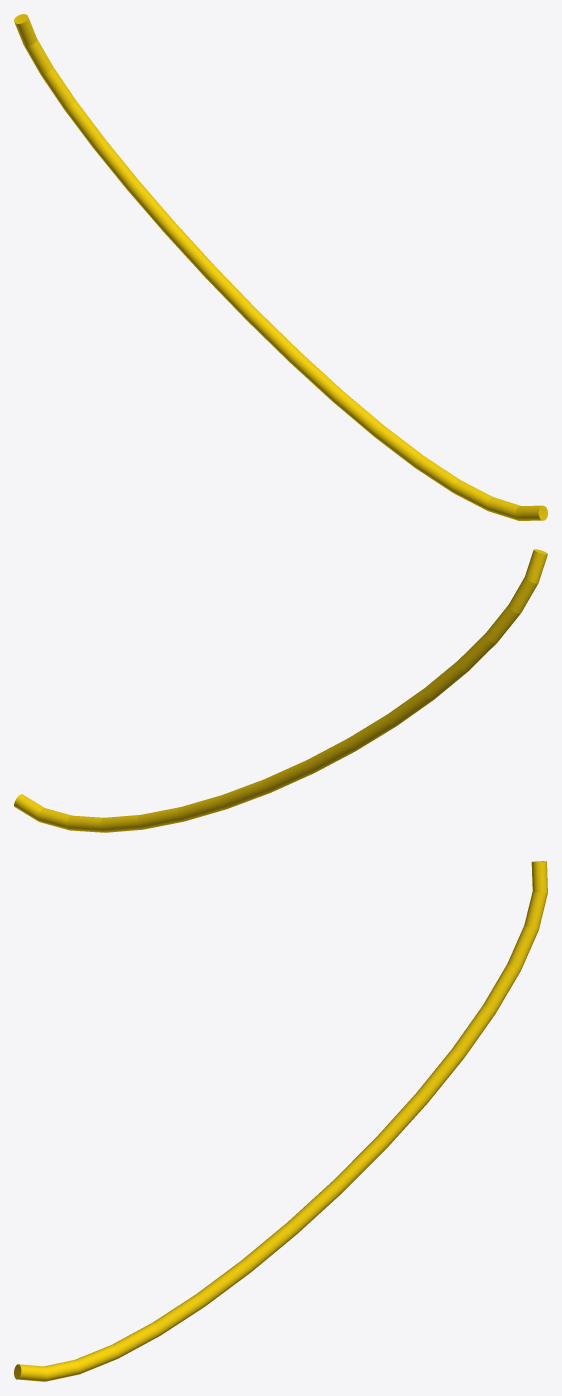
The model's file is Event_420107950_track_35.fbx.
3 renders of one model, top to bottom at view 1: azimuth 30°, elevation 25°; view 2: azimuth 210°, elevation 25°; view 3: azimuth 270°, elevation 25°, orthographic.
Visible parts, largest first — view 1: Model; view 2: Model; view 3: Model.
Part boxes in pixels (x1,y1,x2,y2): Model: (14,14,547,520); Model: (14,549,547,832); Model: (14,861,547,1381).
Size of the model in its own units: 0.8524 by 1.14 by 1.39.
